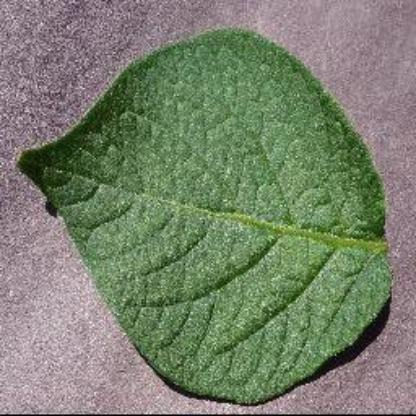Healthy-plant: (16, 25, 406, 402)
